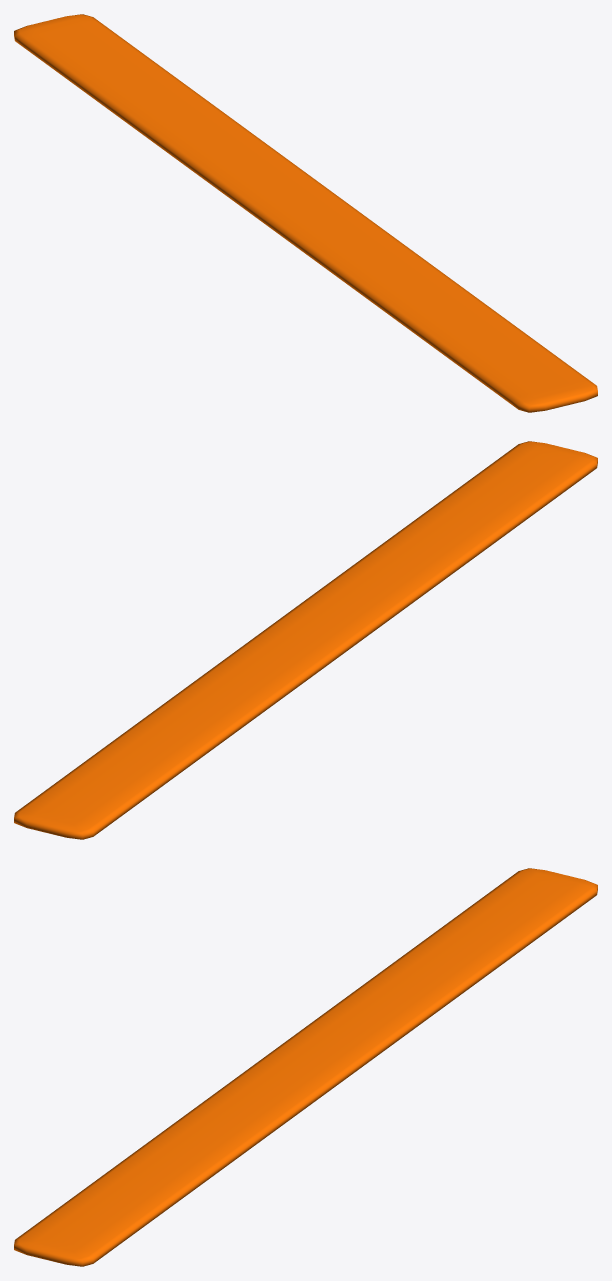
Rendered from alti_transition_elevator.dae.
The picture shows the model from 3 angles, top to bottom: view 1: azimuth 30°, elevation 25°; view 2: azimuth 150°, elevation 25°; view 3: azimuth 330°, elevation 25°; orthographic projection.
Visible parts, largest first — view 1: ~CS_ELEV.003; view 2: ~CS_ELEV.003; view 3: ~CS_ELEV.003.
Part boxes in pixels (x1,y1,x2,y2): ~CS_ELEV.003: [14, 14, 597, 412]; ~CS_ELEV.003: [14, 441, 597, 839]; ~CS_ELEV.003: [14, 868, 597, 1266].
Size of the model in its own units: 0.056 by 0.6415 by 0.00651.
